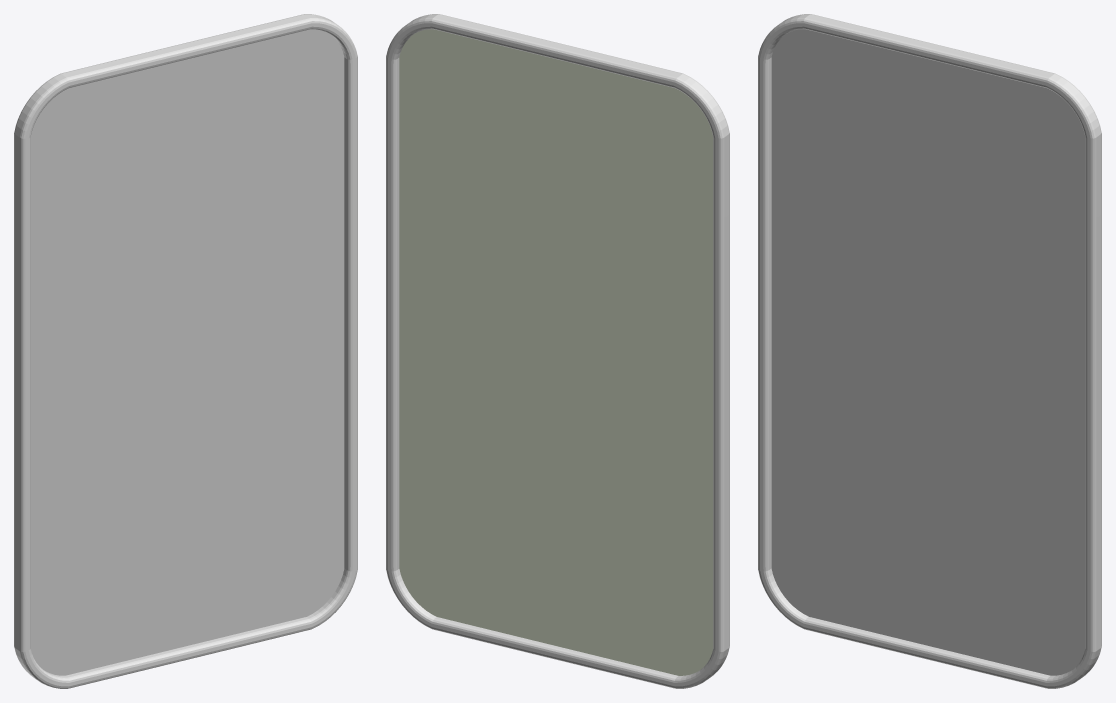
The model's file is kart_akali.fbx.
3 views of the same model, side by side, from view 1: azimuth 30°, elevation 25°; view 2: azimuth 150°, elevation 25°; view 3: azimuth 330°, elevation 25° (orthographic).
Parts seen in each view (by area): view 1: Poster2.001; view 2: Poster2.001; view 3: Poster2.001.
Boxes of the visible parts, box(x1,y1,x2,y2) form: Poster2.001: box(14, 14, 357, 688); Poster2.001: box(386, 14, 729, 688); Poster2.001: box(758, 14, 1101, 688).
Size of the model in its own units: 1.15 by 1.99 by 0.0539.
